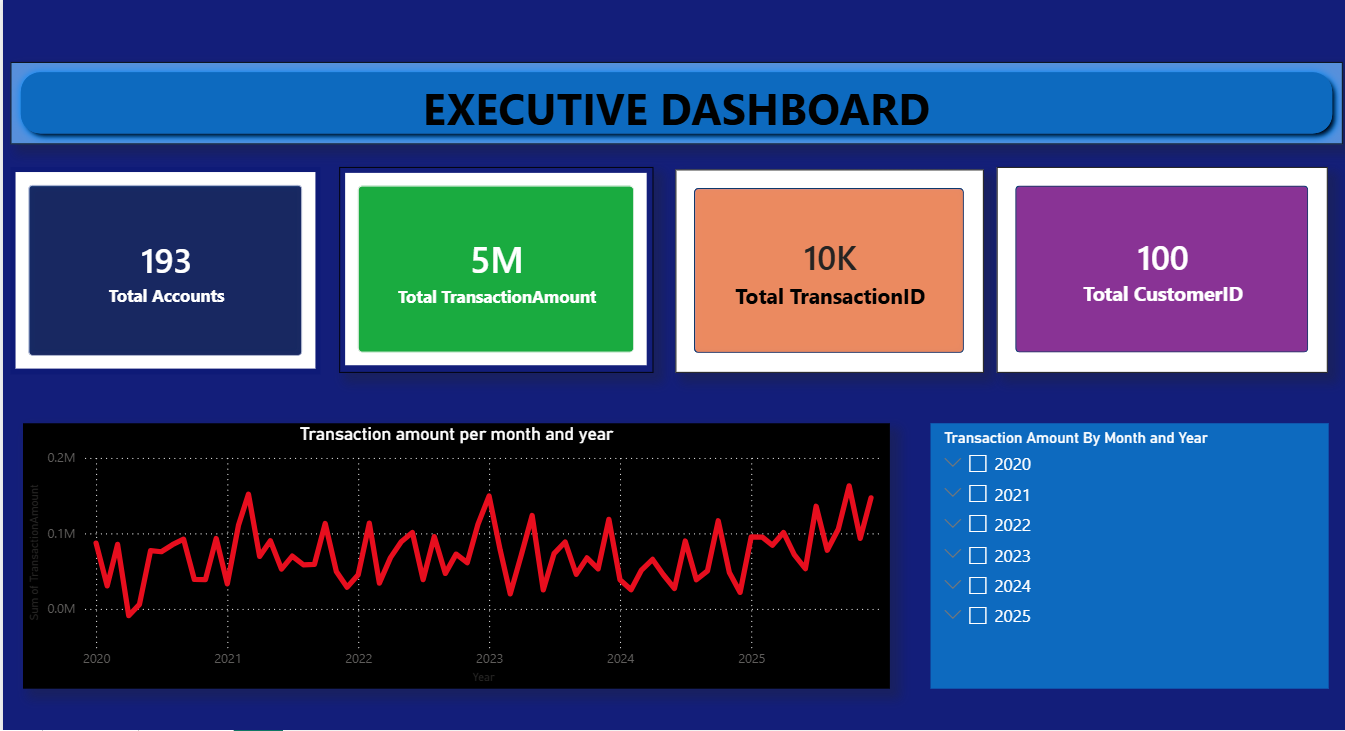

The dashboard page shown, as its layout file describes it:
{"tool":"powerbi","page":{"name":"Page 1","canvas":[1280,720],"ordinal":0},"visuals":[{"type":"shape","box":[7.1,62.3,1269,78.3],"z":0},{"type":"cardVisual","fields":{"Data":["Count(facttran.AccountID)"]},"box":[7.1,162,295.4,197.6],"z":1000},{"type":"cardVisual","fields":{"Data":["Sum(facttran.TransactionAmount)"]},"box":[320.4,162,299,195.8],"z":2000},{"type":"cardVisual","fields":{"Data":["Count(facttran.TransactionID)"]},"box":[640.7,163.7,293.7,194],"z":3000},{"type":"cardVisual","fields":{"Data":["Count(DimCustomer.CustomerID)"]},"box":[946.8,162,315,195.8],"z":4000},{"type":"lineChart","title":"Transaction amount per month and year","fields":{"Category":["facttran.TransactionDate.Variation.Date Hierarchy.Year","facttran.TransactionDate.Variation.Date Hierarchy.Month"],"Y":["Sum(facttran.TransactionAmount)"]},"box":[19.6,405.8,825.8,252.7],"z":5000},{"type":"slicer","fields":{"Values":["facttran.TransactionDate.Variation.Date Hierarchy.Year","facttran.TransactionDate.Variation.Date Hierarchy.Month"]},"box":[882.8,405.8,379.1,252.7],"z":6000}]}

Visuals, with their boxes on the page's 1280x720 design canvas (x1, y1, x2, y2). These are canvas units, not pixel positions in the 1345x731 screenshot, which may show the page scaled, cropped or inside an application window:
shape: (7,62,1276,141)
cardVisual - Count(facttran.AccountID): (7,162,302,360)
cardVisual - Sum(facttran.TransactionAmount): (320,162,619,358)
cardVisual - Count(facttran.TransactionID): (641,164,934,358)
cardVisual - Count(DimCustomer.CustomerID): (947,162,1262,358)
"Transaction amount per month and year" lineChart: (20,406,845,658)
slicer - facttran.TransactionDate.Variation.Date Hierarchy.Year x facttran.TransactionDate.Variation.Date Hierarchy.Month: (883,406,1262,658)
